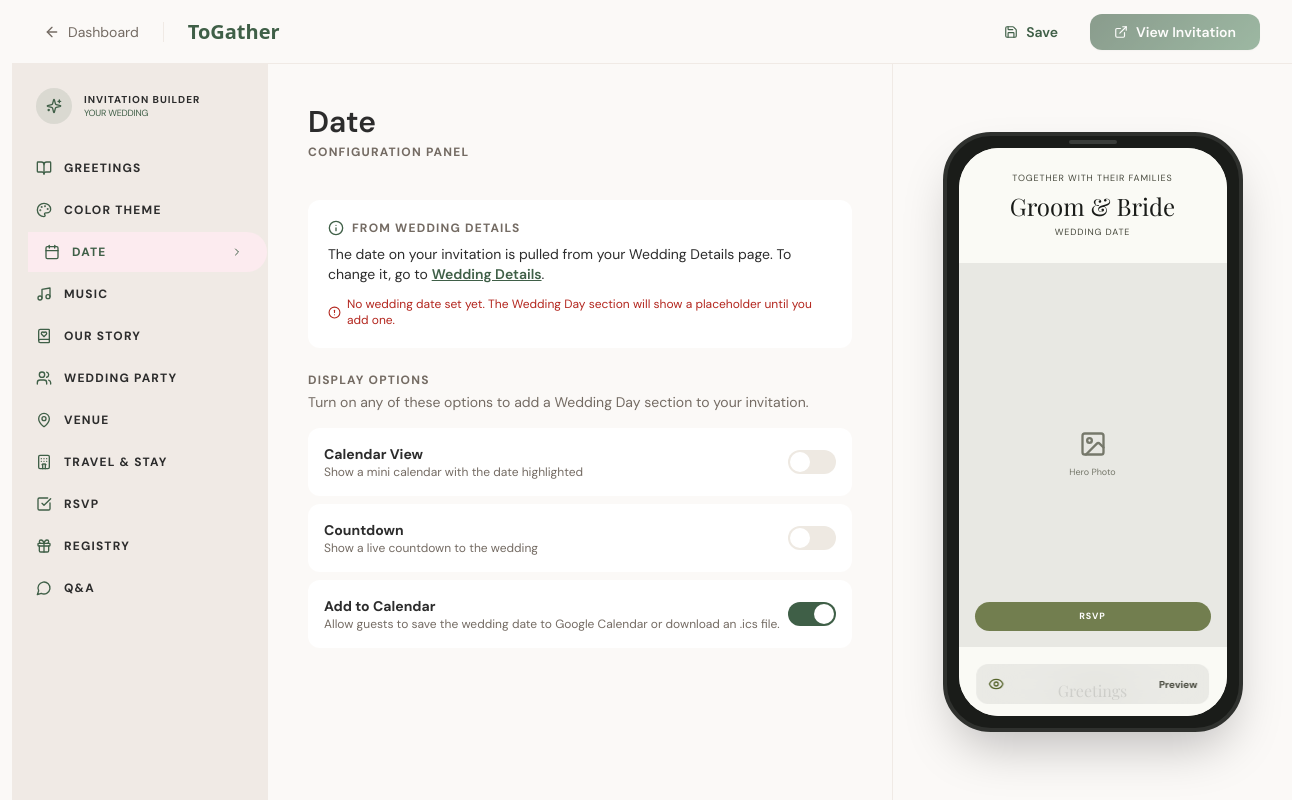
Date tab — Calendar View and Countdown › shows a missing-date message with no invitation at all (new host)
Click the switch named "Show Countdown". click: (812, 538)
box: [788,526,836,550]
(page scrolled)
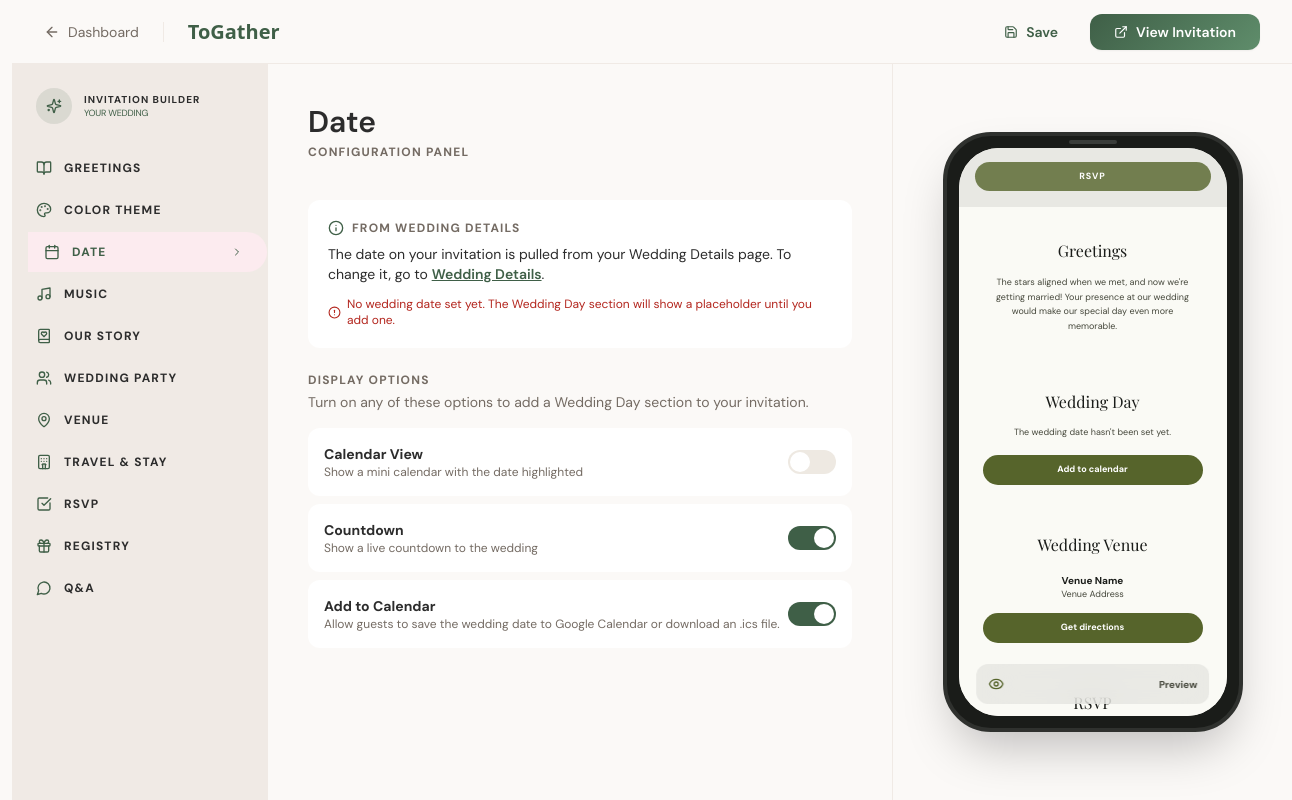
Expected: the text "The wedding date hasn't been set yet." is shown, [1014,426,1171,438]
